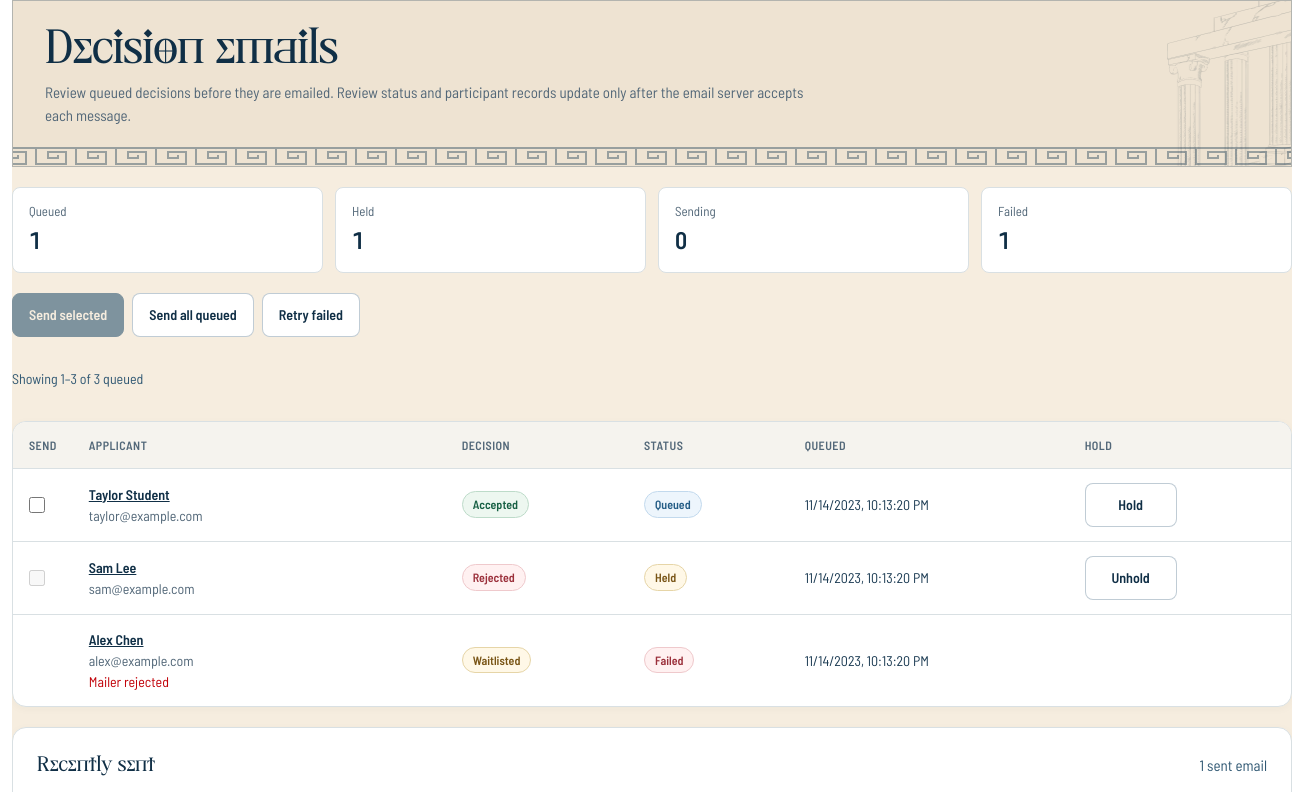
DecisionEmailQueuePage › surfaces send failures
The image size is (1292, 792).
Click the button "Send all queued".
click(193, 314)  # box [132,292,254,336]
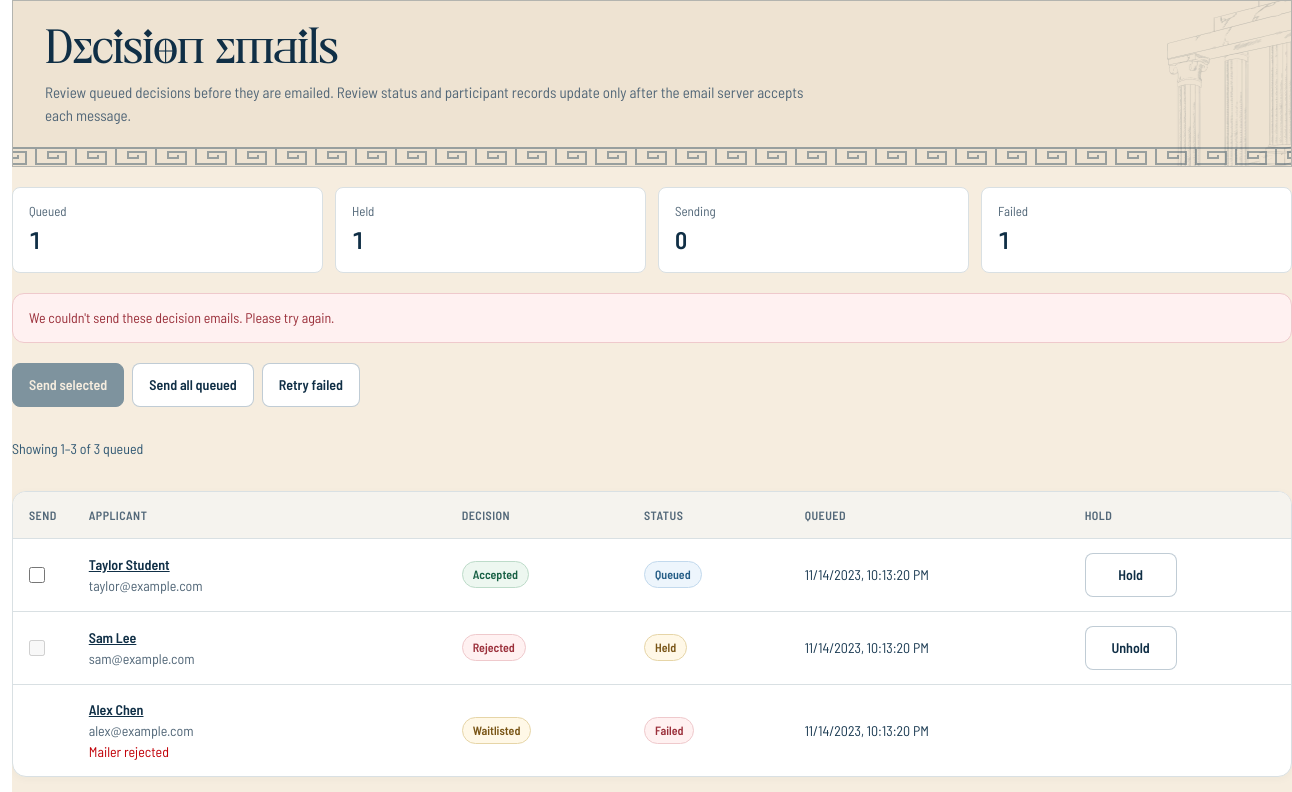
Expected: the message "We couldn't send these decision emails. Please try again." is shown, [12,292,1291,343]
